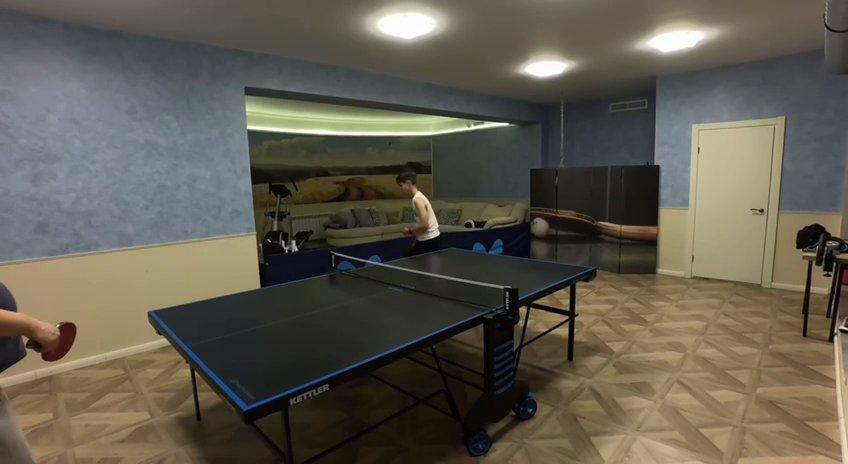Net: (330, 251, 517, 317)
Player1: (396, 169, 440, 254)
Player2: (0, 281, 63, 373), (0, 388, 34, 463)
Table: (148, 247, 595, 410)
